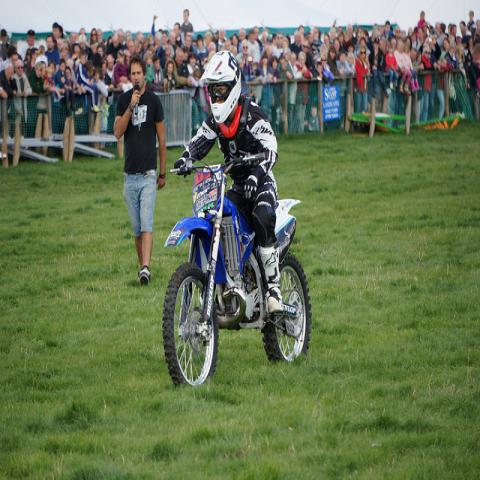motorcycle: (162, 151, 312, 390)
